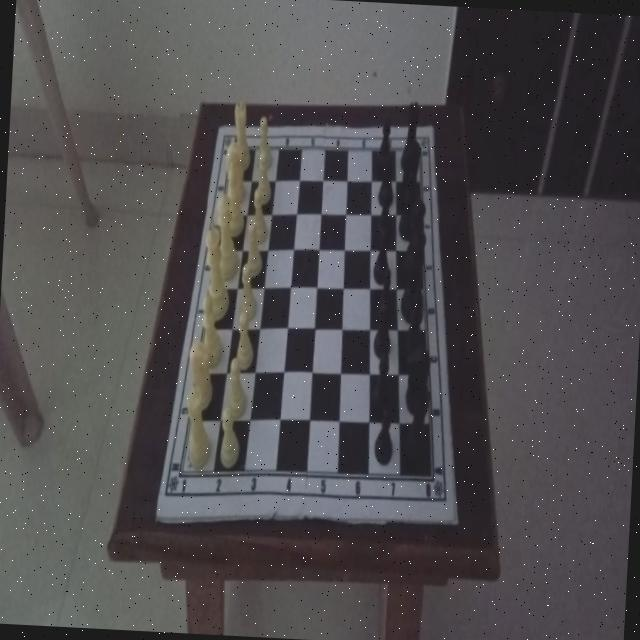corners: (447, 504, 463, 533), (150, 504, 165, 531), (423, 115, 437, 142), (214, 116, 227, 142)
